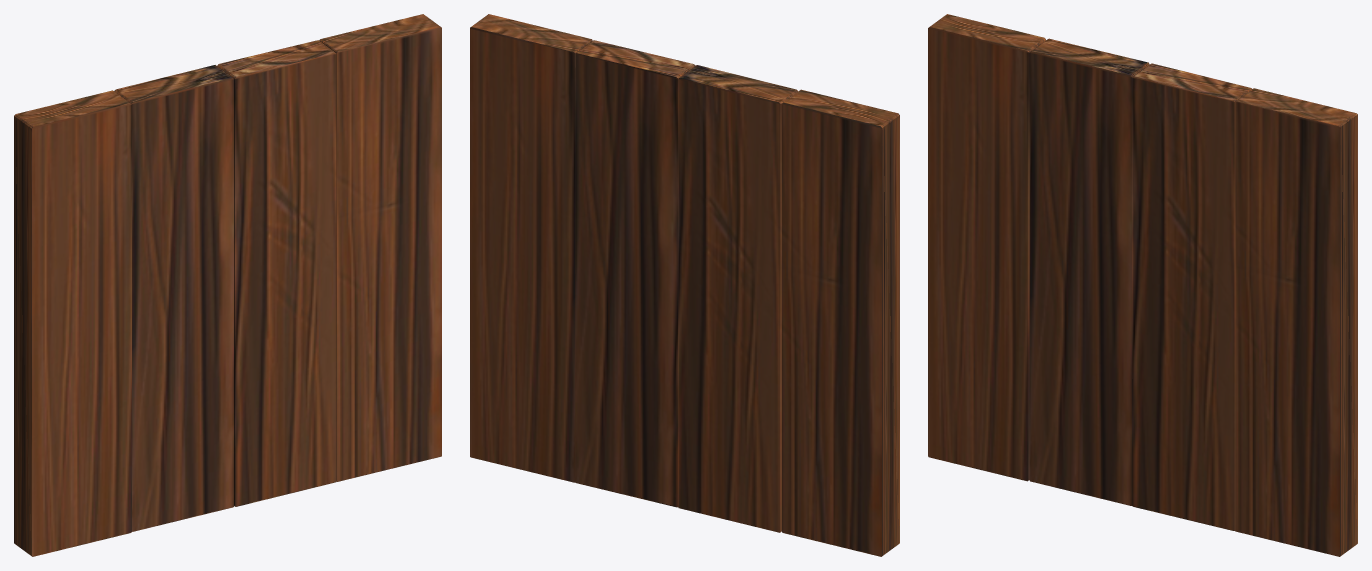
File: wood_wall.fbx
3 views of the same model, side by side, from view 1: azimuth 30°, elevation 25°; view 2: azimuth 150°, elevation 25°; view 3: azimuth 330°, elevation 25° (orthographic).
Visible parts, largest first — view 1: Wood_wall; view 2: Wood_wall; view 3: Wood_wall.
Boxes of the visible parts, x1,y1,x2,y2 form: Wood_wall: (14, 14, 441, 556); Wood_wall: (470, 14, 899, 556); Wood_wall: (928, 14, 1357, 556).
Size of the model in its own units: 200 by 200 by 15.54.
